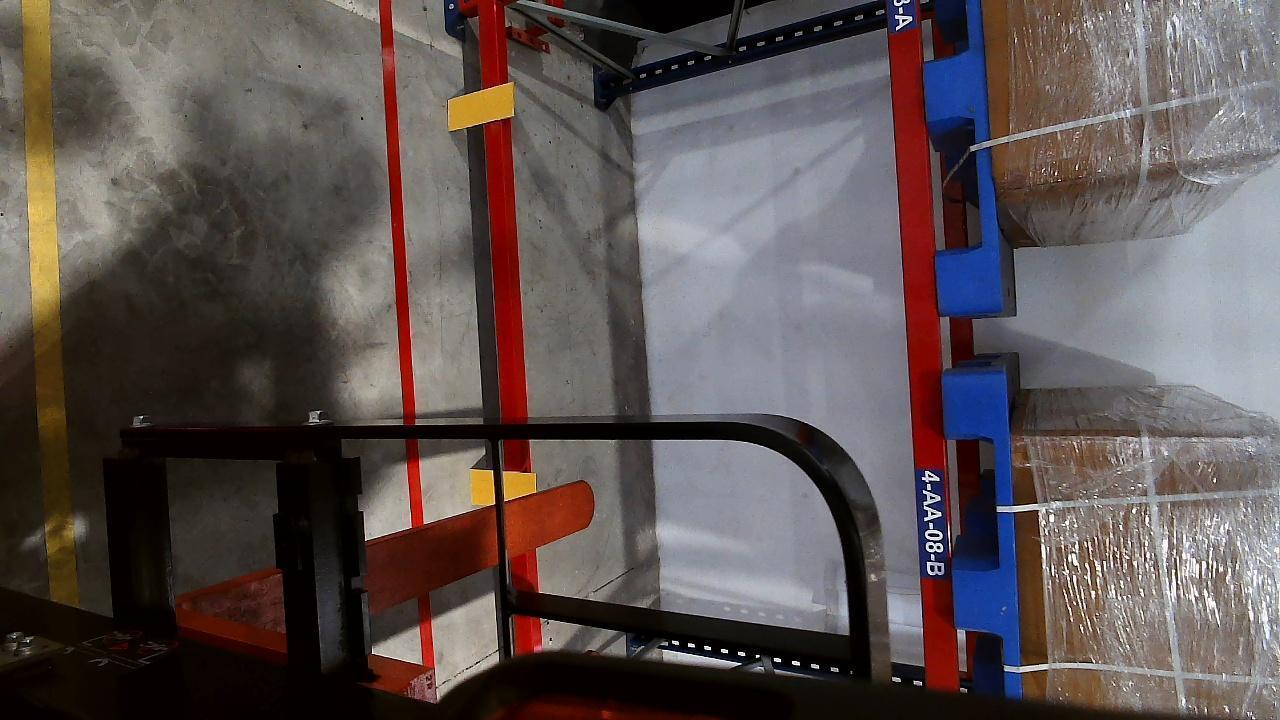red_line: (378, 0, 428, 523)
yellow_line: (17, 0, 75, 600)
